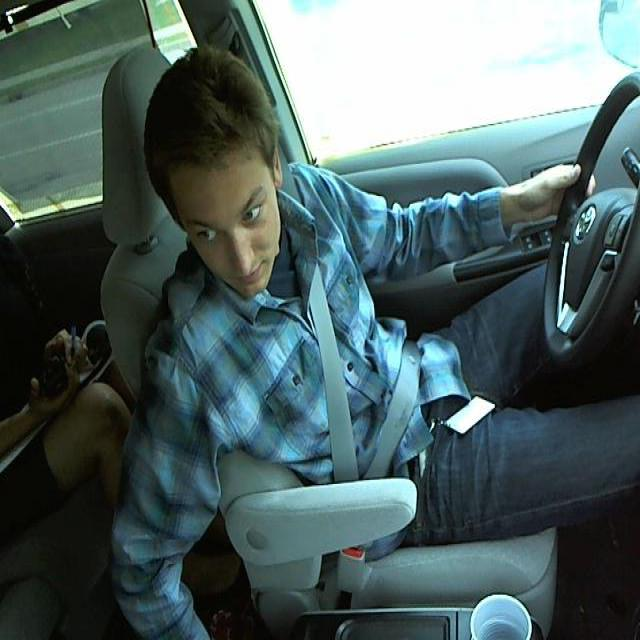seatbelt: (292, 279, 404, 481)
